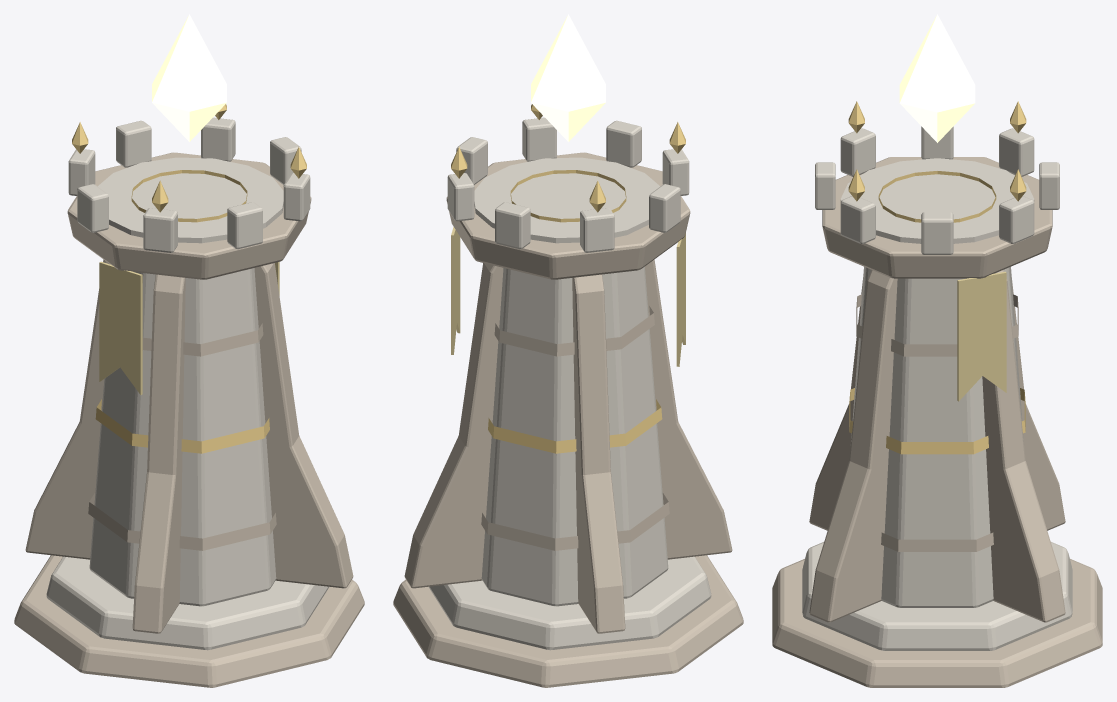
The model's file is tower_dawn.glb.
The picture shows the model from 3 angles, left to right: view 1: azimuth 30°, elevation 25°; view 2: azimuth 150°, elevation 25°; view 3: azimuth 270°, elevation 25°; orthographic projection.
Visible parts, largest first — view 1: shaft, plinth, fin3, fin2, plinth2, floor, crown, fin1, crystal, banner1, band0, band1 (+10 smaller); view 2: shaft, plinth, fin0, fin1, plinth2, floor, fin2, crown, crystal, band0, band1, band2 (+11 smaller); view 3: shaft, plinth, fin3, fin0, plinth2, floor, crown, crystal, banner0, fin1, fin2, band1 (+11 smaller).
Boxes of the visible parts, x1,y1,x2,y2 form: shaft: [89, 268, 276, 606]; plinth: [14, 555, 364, 687]; fin3: [254, 263, 353, 588]; fin2: [132, 274, 185, 633]; plinth2: [46, 556, 329, 650]; floor: [98, 157, 283, 243]; crown: [67, 152, 311, 279]; fin1: [25, 259, 109, 559]; crystal: [152, 14, 226, 141]; banner1: [99, 261, 142, 394]; band0: [88, 492, 276, 550]; band1: [95, 399, 269, 453]; shaft: [481, 266, 668, 606]; plinth: [393, 555, 743, 687]; fin0: [404, 263, 503, 588]; fin1: [572, 274, 625, 633]; plinth2: [428, 556, 711, 650]; floor: [474, 157, 659, 243]; fin2: [645, 259, 732, 559]; crown: [446, 152, 690, 279]; crystal: [531, 14, 605, 141]; band0: [481, 492, 669, 550]; band1: [488, 399, 662, 453]; band2: [494, 306, 654, 356]; shaft: [851, 266, 1023, 607]; plinth: [772, 559, 1102, 687]; fin3: [809, 270, 897, 622]; fin0: [982, 270, 1065, 622]; plinth2: [802, 542, 1072, 650]; floor: [840, 158, 1034, 243]; crown: [822, 157, 1052, 278]; crystal: [899, 14, 975, 142]; banner0: [957, 271, 1006, 401]; fin1: [1011, 277, 1065, 530]; fin2: [809, 277, 863, 530]; band1: [849, 388, 1025, 454].
Bounding box in the file's own units: 3.48 × 7.03 × 3.48.
